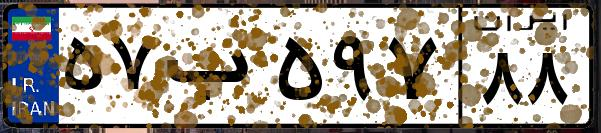5: (270, 28, 330, 110), (57, 26, 110, 100)
7: (385, 28, 445, 110), (110, 28, 158, 98)
8: (475, 38, 525, 113), (525, 38, 570, 115)
9: (330, 28, 385, 110)
ب: (158, 20, 270, 120)
